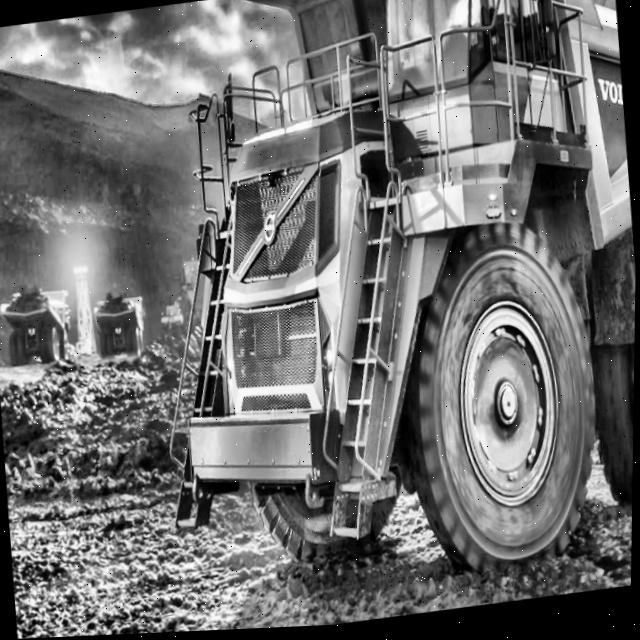dump_truck: (137, 0, 640, 635)
